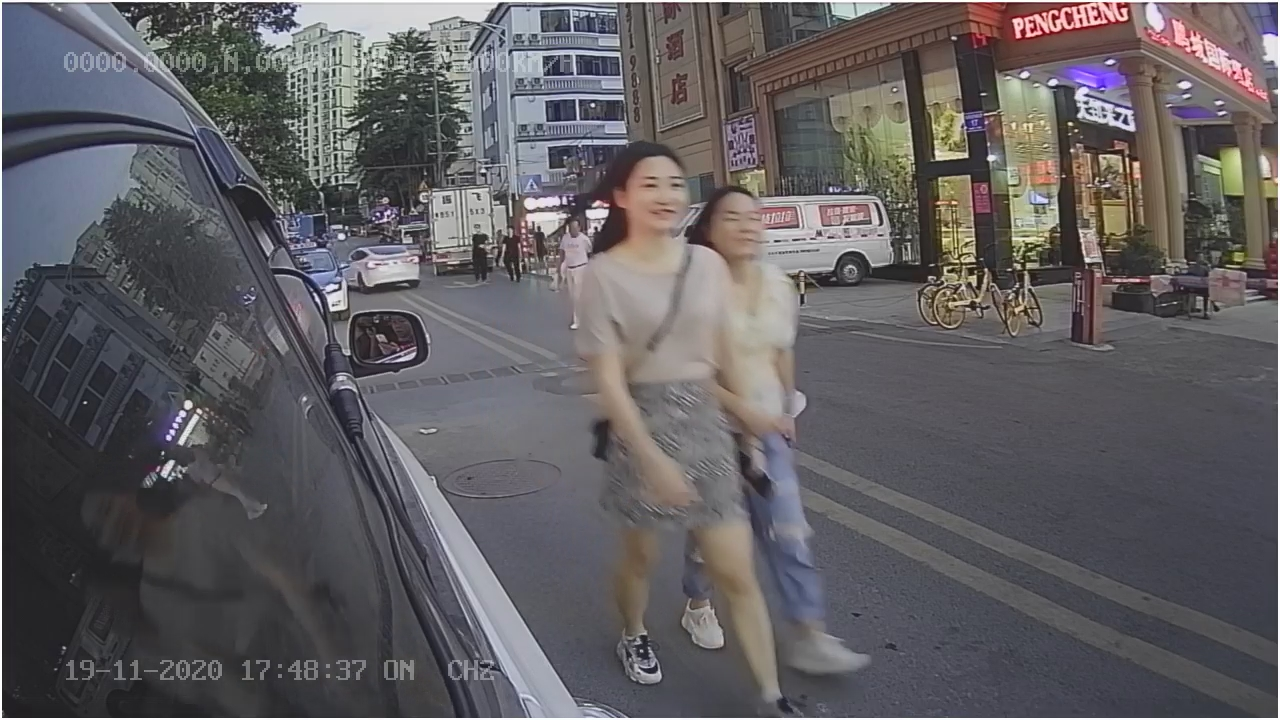person: (577, 151, 776, 688)
